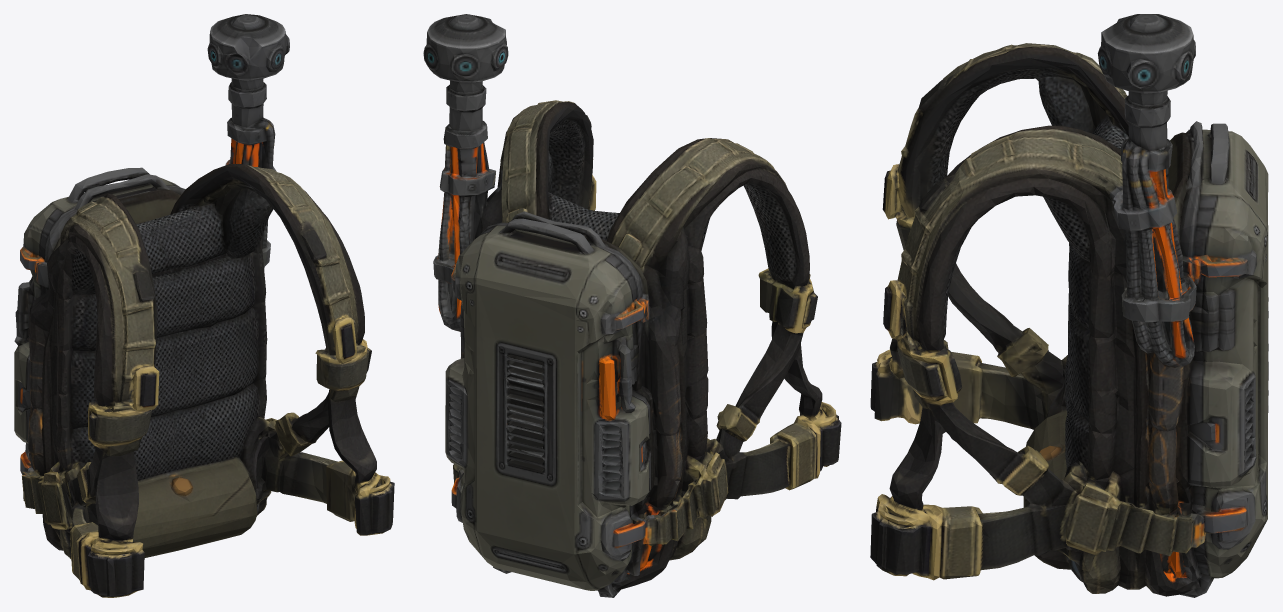
Rendered from prepared-pack.glb.
The picture shows the model from 3 angles, left to right: view 1: azimuth 30°, elevation 25°; view 2: azimuth 150°, elevation 25°; view 3: azimuth 270°, elevation 25°; orthographic projection. The views are drawn at different scales.
Parts seen in each view (by area): view 1: operator_protagonist_pack; view 2: operator_protagonist_pack; view 3: operator_protagonist_pack.
Part boxes in pixels (<box>): operator_protagonist_pack: <box>14,14,394,597</box>; operator_protagonist_pack: <box>423,14,841,597</box>; operator_protagonist_pack: <box>870,14,1268,597</box>.
Size of the model in its own units: 0.3976 by 0.6291 by 0.3719.
1 material, 1 textured.
